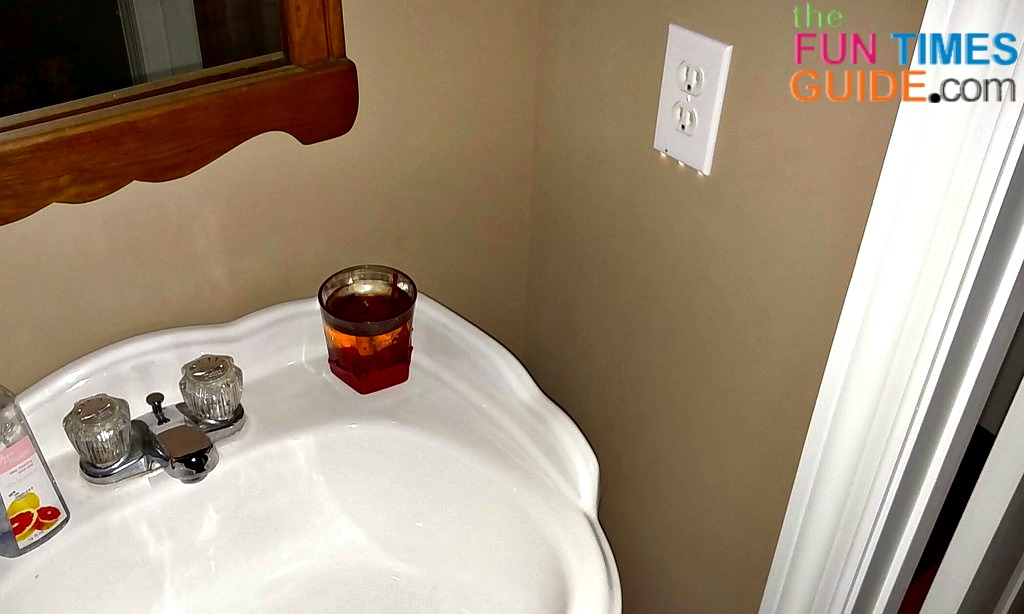outlet: (679, 61, 707, 97), (672, 100, 698, 134)
